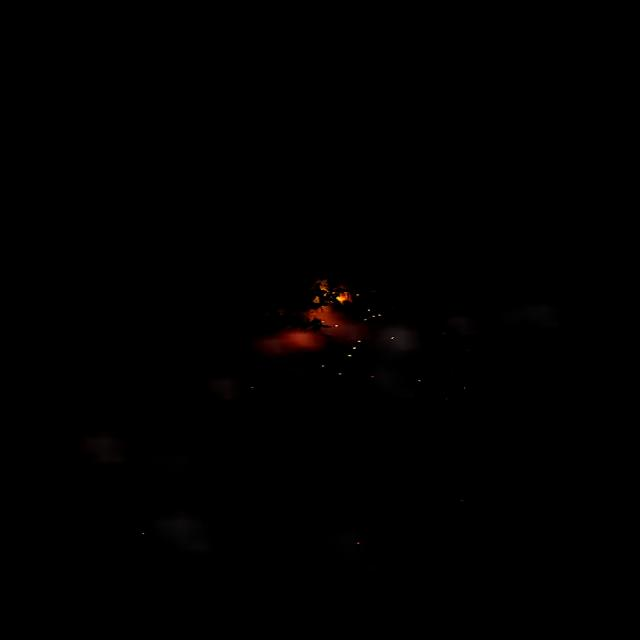fire: (309, 280, 355, 306)
smoke: (251, 294, 424, 396), (158, 514, 207, 552), (89, 438, 127, 468), (440, 314, 482, 339), (512, 306, 556, 328), (202, 380, 229, 400)
